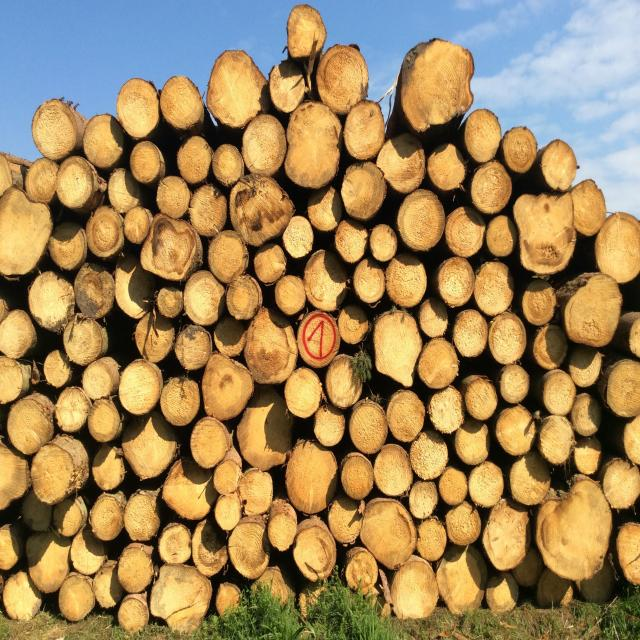wood-log: (538, 478, 614, 582), (398, 38, 472, 128), (518, 190, 578, 274), (285, 102, 343, 188), (233, 388, 293, 470), (228, 175, 292, 246), (207, 53, 264, 131), (0, 190, 49, 277), (563, 274, 622, 346), (244, 309, 299, 384), (284, 441, 338, 515), (140, 218, 200, 284), (370, 313, 421, 390), (148, 563, 210, 626), (360, 498, 414, 568), (123, 413, 180, 477), (318, 44, 370, 113), (201, 352, 254, 418), (482, 502, 530, 573), (437, 547, 486, 615), (597, 214, 640, 284), (6, 394, 55, 454), (375, 132, 424, 192), (398, 189, 445, 251), (164, 462, 214, 520), (243, 114, 290, 175), (25, 269, 73, 328), (302, 251, 348, 312), (393, 558, 438, 620), (294, 516, 337, 580), (29, 444, 73, 506), (340, 162, 387, 219), (30, 102, 76, 160), (116, 81, 160, 141), (343, 102, 386, 162), (157, 75, 203, 130), (228, 518, 270, 578), (118, 360, 163, 415), (301, 311, 343, 368), (183, 270, 226, 325), (75, 262, 116, 319), (386, 253, 428, 308), (510, 452, 552, 507), (62, 314, 108, 364), (84, 114, 126, 168), (348, 398, 388, 454), (471, 161, 514, 213), (473, 261, 514, 315), (419, 337, 462, 388), (464, 110, 505, 163), (571, 180, 608, 238), (191, 417, 233, 468), (57, 157, 98, 209), (488, 313, 528, 366), (386, 390, 426, 443), (496, 405, 538, 455), (160, 374, 200, 426), (374, 444, 414, 496), (3, 570, 43, 622), (208, 230, 248, 282), (326, 355, 364, 409), (269, 59, 307, 113), (190, 185, 229, 237), (606, 359, 640, 418), (0, 441, 29, 510), (446, 206, 486, 256), (428, 144, 469, 192), (123, 492, 162, 542), (283, 368, 322, 418), (50, 221, 89, 271), (194, 522, 229, 577), (541, 140, 578, 192), (410, 433, 450, 481), (438, 258, 476, 308), (538, 414, 576, 464), (119, 543, 157, 593), (602, 460, 640, 510), (88, 206, 124, 258), (286, 6, 322, 58), (140, 312, 176, 364), (0, 310, 37, 360), (174, 325, 212, 372), (534, 324, 572, 371), (328, 494, 364, 543), (452, 310, 487, 360), (267, 499, 300, 552), (177, 136, 213, 184), (524, 277, 560, 325), (503, 126, 540, 172), (55, 385, 91, 432), (238, 470, 274, 517), (345, 547, 381, 594), (541, 368, 576, 416), (445, 502, 482, 547), (58, 574, 94, 620), (462, 374, 498, 420), (227, 274, 263, 320), (428, 389, 464, 435), (89, 494, 124, 541), (307, 187, 343, 232), (90, 445, 125, 491), (470, 462, 504, 509), (567, 344, 604, 387), (88, 399, 123, 444), (454, 419, 489, 464), (352, 258, 386, 304), (580, 565, 619, 604), (341, 452, 374, 498), (569, 393, 602, 439), (108, 168, 142, 212), (313, 404, 347, 447), (334, 221, 368, 264), (280, 216, 314, 259), (22, 162, 55, 206), (617, 523, 640, 586), (336, 302, 371, 343), (158, 177, 192, 219), (130, 141, 163, 184), (486, 214, 518, 258), (417, 515, 448, 560), (214, 144, 245, 188), (82, 358, 114, 400), (213, 318, 248, 356), (159, 522, 191, 563), (417, 298, 449, 339), (536, 569, 570, 607), (497, 365, 530, 404), (255, 246, 288, 285), (274, 274, 306, 314), (514, 548, 546, 588), (20, 492, 52, 531), (118, 594, 149, 632), (409, 480, 440, 518), (0, 356, 25, 403), (44, 349, 74, 388), (370, 224, 400, 262), (439, 468, 468, 507), (574, 438, 603, 476), (213, 458, 242, 496), (124, 205, 152, 244), (215, 493, 244, 529), (158, 288, 185, 319), (0, 526, 18, 571), (624, 417, 640, 467), (0, 153, 12, 196), (629, 317, 640, 359), (0, 297, 8, 323)
